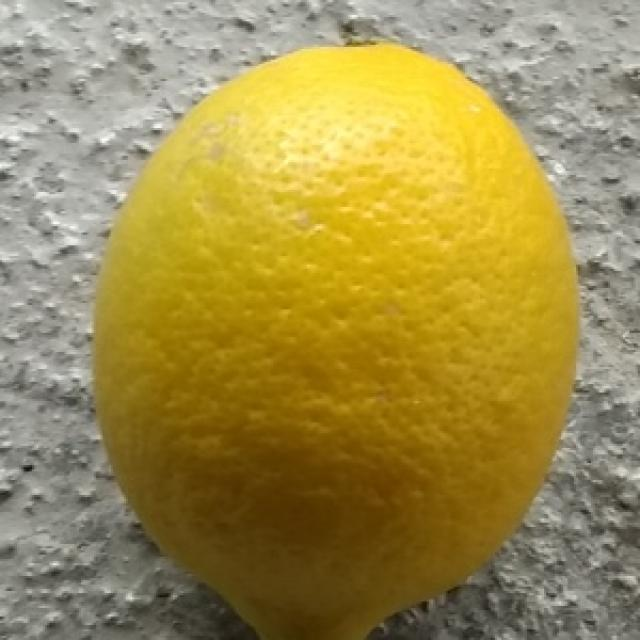Lemon: (91, 10, 580, 640)
